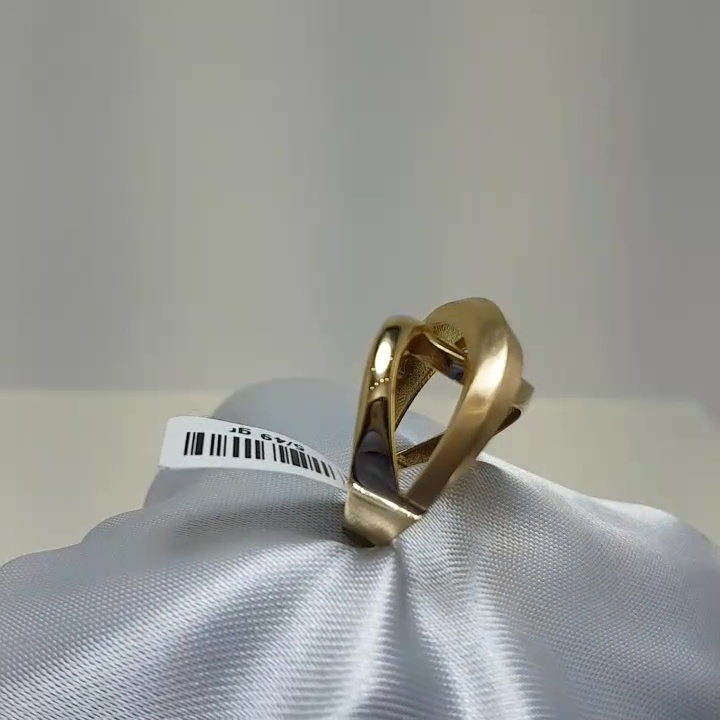Ring 3: (303, 284, 548, 563)
